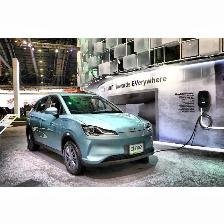EV: (25, 93, 159, 178)
